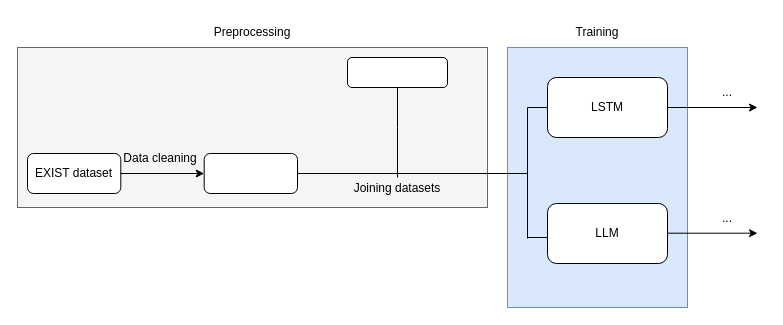
Some shapes in this 783 by 325 pixel diagram are drawn without their labels. Here are the shapes that lost their labels. From the top down, the centre of each, then its label:
point 397,72: GloVe embedding
point 250,173: Clean data
